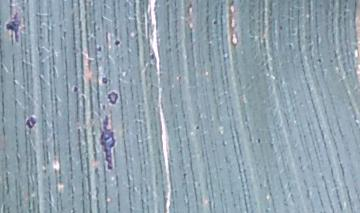tarspot: (99, 113, 118, 172), (5, 11, 25, 43), (106, 90, 120, 106), (25, 114, 38, 129), (146, 45, 156, 60), (100, 76, 110, 85), (94, 44, 103, 53), (72, 85, 79, 95), (113, 39, 121, 47), (182, 171, 188, 181), (255, 137, 262, 145), (212, 18, 219, 26), (315, 56, 322, 64), (287, 42, 293, 50), (194, 124, 200, 131), (278, 24, 283, 31), (327, 58, 333, 63)
